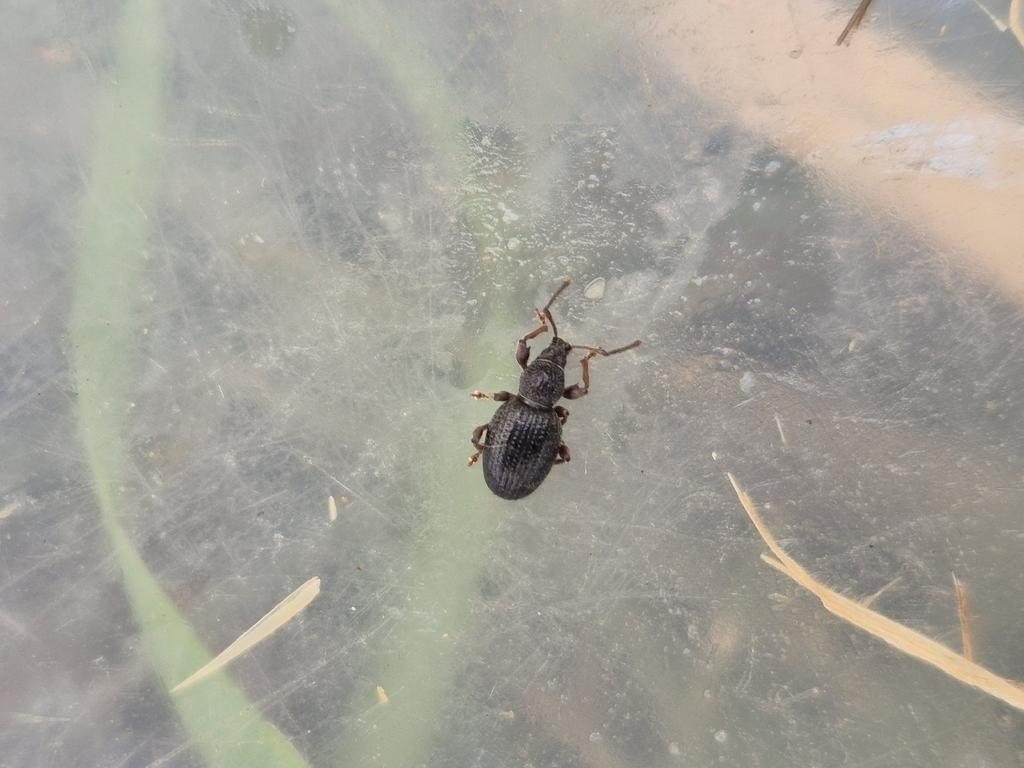weevils: (408, 236, 678, 552)
